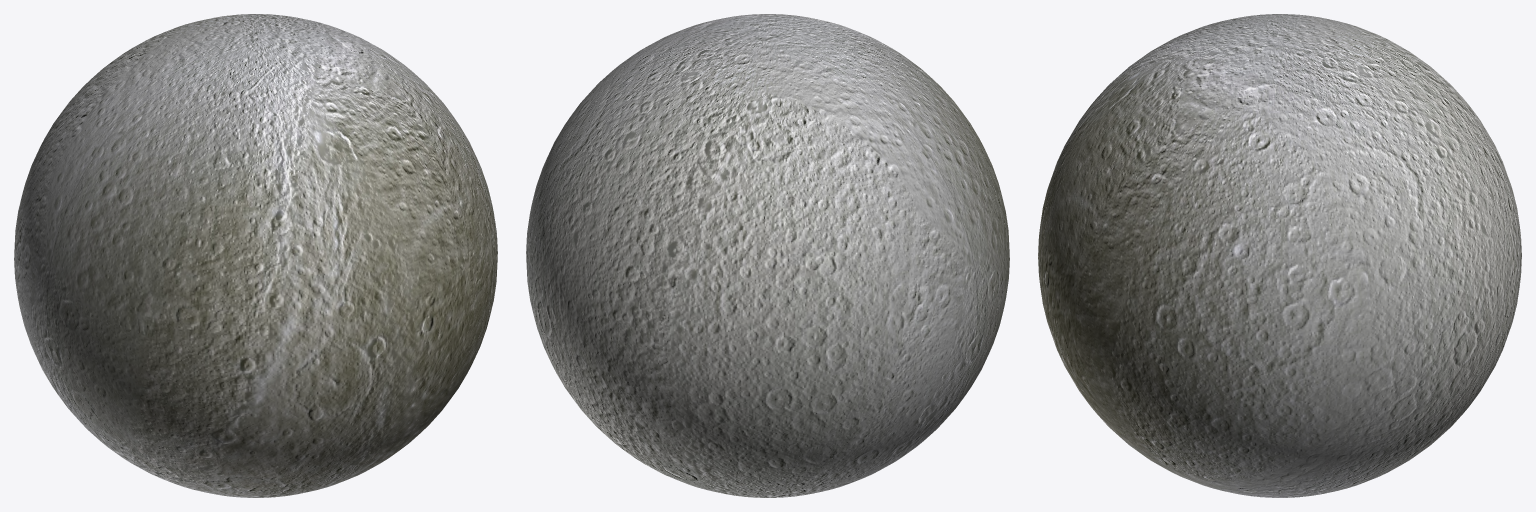
File: ball-rhea.glb
3 views of the same model, side by side, from view 1: azimuth 30°, elevation 25°; view 2: azimuth 150°, elevation 25°; view 3: azimuth 270°, elevation 25° (orthographic).
Parts seen in each view (by area): view 1: voyager2; view 2: voyager2; view 3: voyager2.
Part boxes in pixels (<box>): voyager2: <box>14,14,497,497</box>; voyager2: <box>526,14,1009,497</box>; voyager2: <box>1038,14,1521,497</box>.
Bounding box in the file's own units: 2 × 2 × 2.
1 material, 1 textured.
